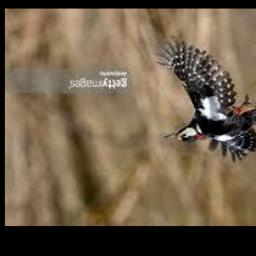Woodpecker: (154, 35, 256, 163)
